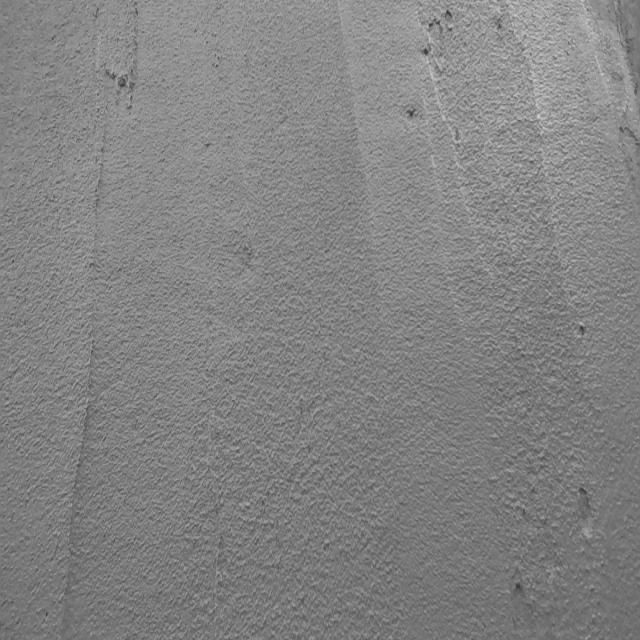trowels marks: (66, 111, 108, 640)
